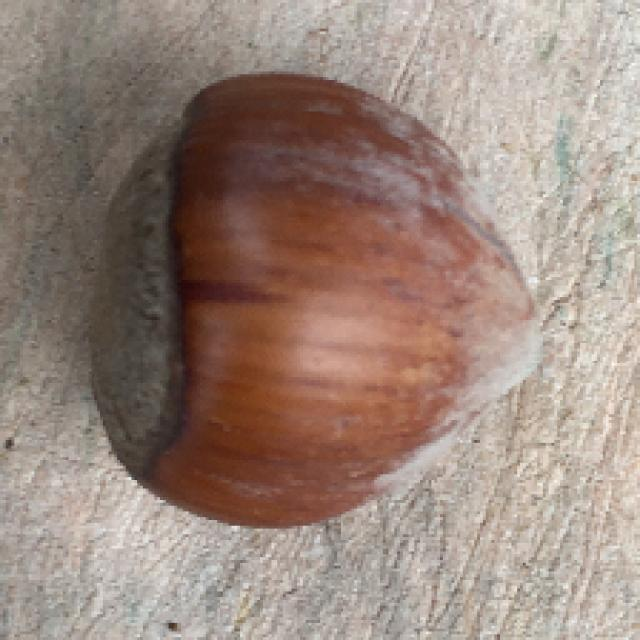QualityHazelnut: (90, 74, 549, 528)
